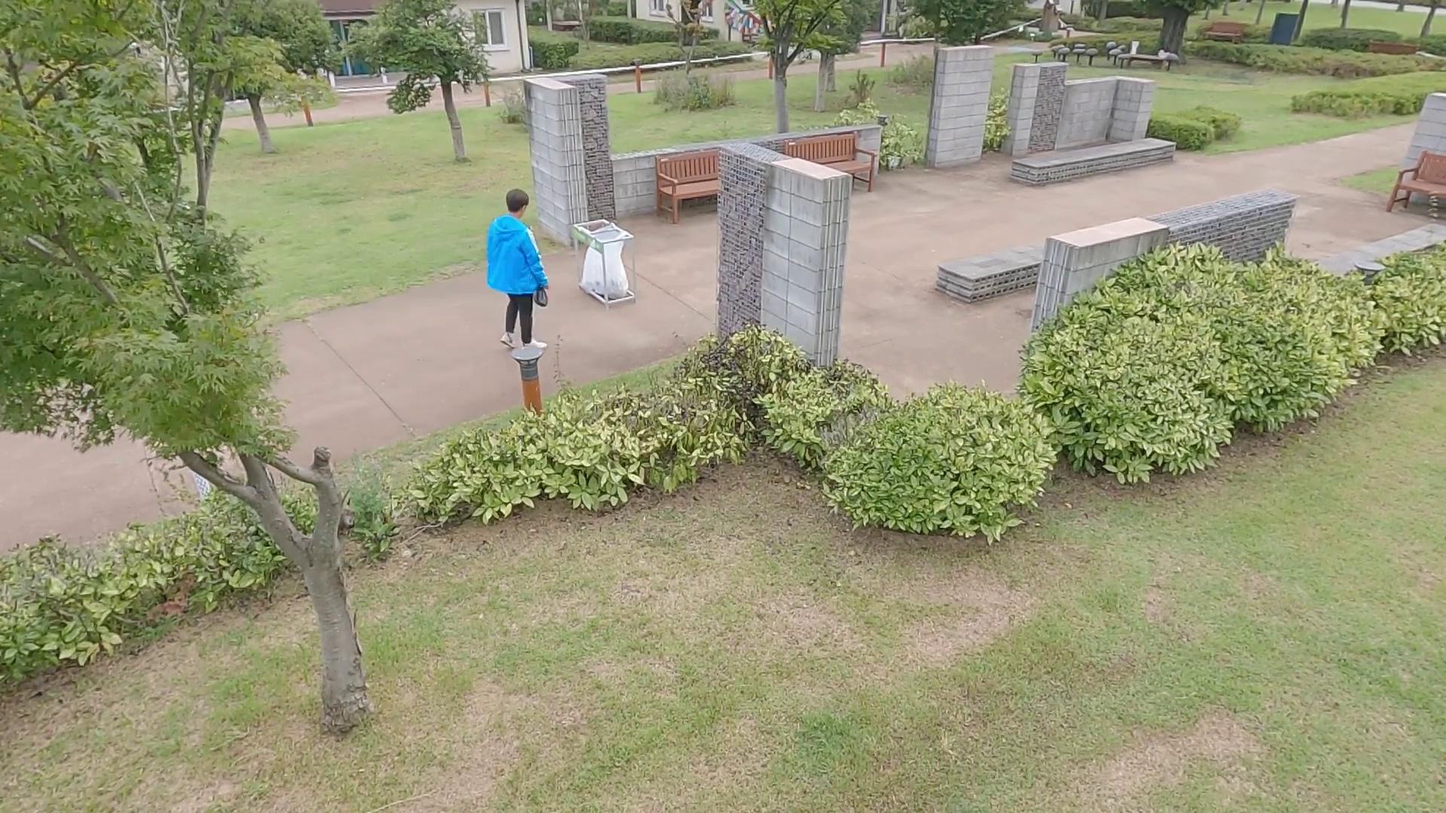person: (482, 183, 555, 355)
trash: (531, 284, 552, 306)
